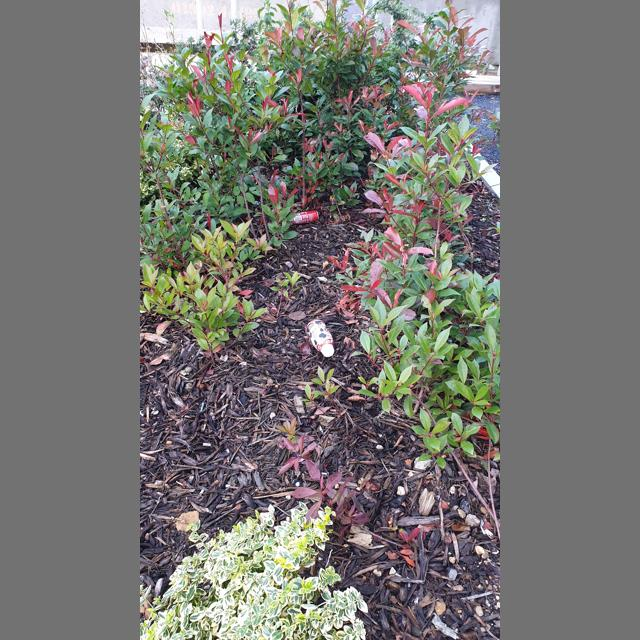litter: (306, 320, 335, 357), (289, 210, 318, 226)
